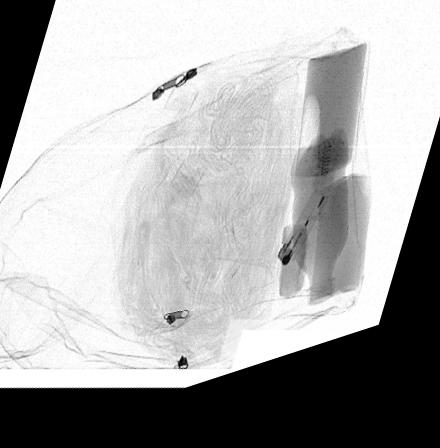Lighter: (277, 207, 329, 284)
